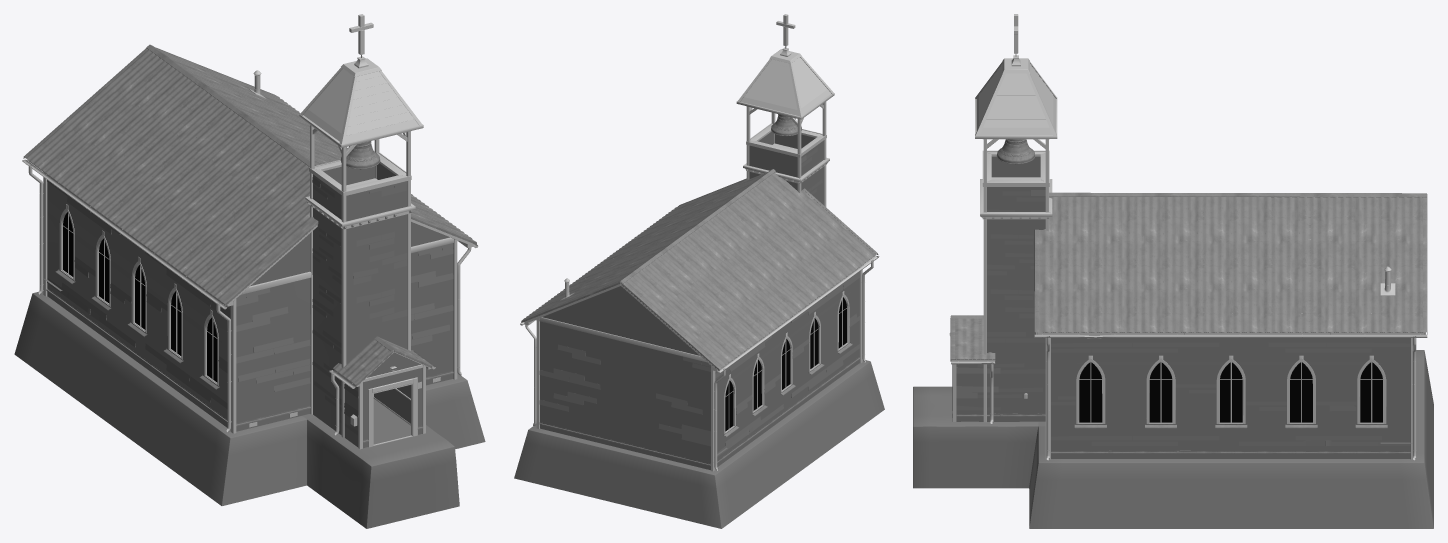
Rendered from Church.fbx.
3 renders of one model, left to right at view 1: azimuth 30°, elevation 25°; view 2: azimuth 150°, elevation 25°; view 3: azimuth 270°, elevation 25°, orthographic. The views are drawn at different scales.
Parts seen in each view (by area): view 1: SM_Church; view 2: SM_Church; view 3: SM_Church.
Part boxes in pixels (x1,y1,x2,y2): SM_Church: [14, 14, 485, 528]; SM_Church: [514, 14, 884, 528]; SM_Church: [913, 14, 1433, 528].
Size of the model in its own units: 1219 by 2047 by 2138.
